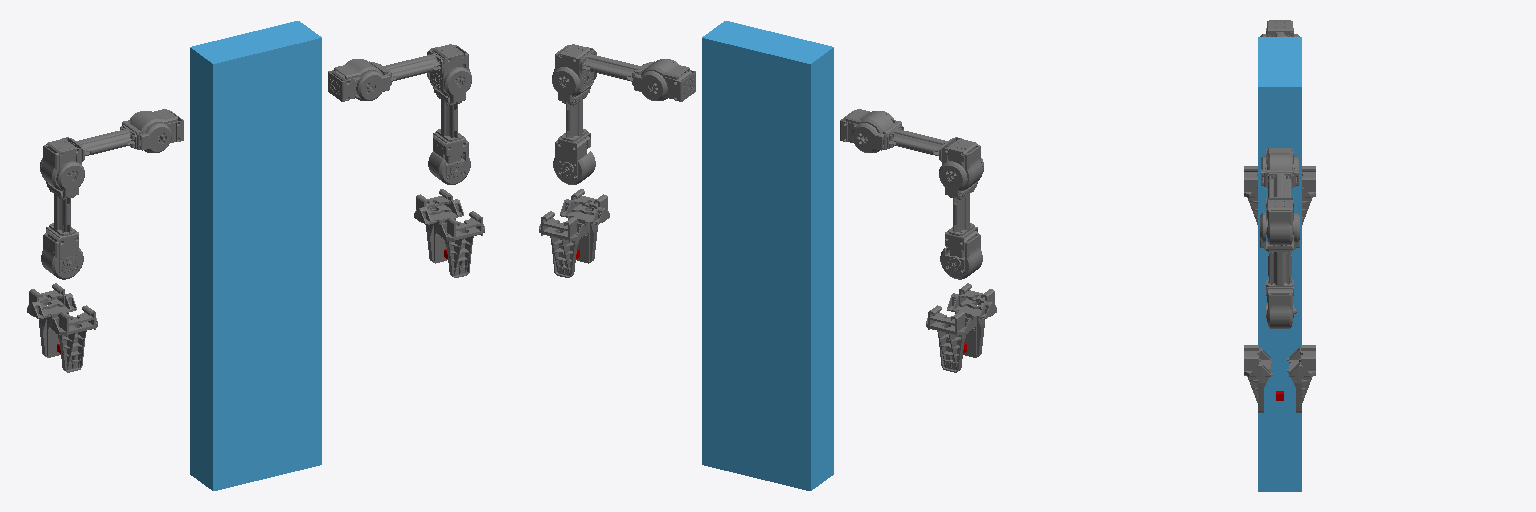
The robot description file, URDF, robot "marvin":
<?xml version="1.0" ?>
<!-- =================================================================================== -->
<!-- |    This document was autogenerated by xacro from marvin.urdf.xacro              | -->
<!-- |    EDITING THIS FILE BY HAND IS NOT RECOMMENDED                                 | -->
<!-- =================================================================================== -->
<!-- Open_Manipulator Chain -->
<robot name="marvin">
  <material name="black">
    <color rgba="0.0 0.0 0.0 1.0"/>
  </material>
  <material name="white">
    <color rgba="1.0 1.0 1.0 1.0"/>
  </material>
  <material name="red">
    <color rgba="0.8 0.0 0.0 1.0"/>
  </material>
  <material name="blue">
    <color rgba="0.0 0.0 0.8 1.0"/>
  </material>
  <material name="green">
    <color rgba="0.0 0.8 0.0 1.0"/>
  </material>
  <material name="grey">
    <color rgba="0.5 0.5 0.5 1.0"/>
  </material>
  <material name="orange">
    <color rgba="1.0 0.4235294117647059 0.0392156862745098 1.0"/>
  </material>
  <material name="brown">
    <color rgba="0.8705882352941177 0.8117647058823529 0.7647058823529411 1.0"/>
  </material>
  <!-- Import all Gazebo-customization elements, including Gazebo colors -->
  <!--xacro:include filename="[local-path]/marvin/ros2_ws/src/marvin/urdf2/open_manipulator.gazebo.xacro" /-->
  <transmission name="tran1">
    <type>transmission_interface/SimpleTransmission</type>
    <joint name="joint1">
      <hardwareInterface>hardware_interface/PositionJointInterface</hardwareInterface>
    </joint>
    <actuator name="motor1">
      <mechanicalReduction>1</mechanicalReduction>
    </actuator>
  </transmission>
  <transmission name="tran2">
    <type>transmission_interface/SimpleTransmission</type>
    <joint name="joint2">
      <hardwareInterface>hardware_interface/PositionJointInterface</hardwareInterface>
    </joint>
    <actuator name="motor2">
      <mechanicalReduction>1</mechanicalReduction>
    </actuator>
  </transmission>
  <transmission name="tran3">
    <type>transmission_interface/SimpleTransmission</type>
    <joint name="joint3">
      <hardwareInterface>hardware_interface/PositionJointInterface</hardwareInterface>
    </joint>
    <actuator name="motor3">
      <mechanicalReduction>1</mechanicalReduction>
    </actuator>
  </transmission>
  <transmission name="tran4">
    <type>transmission_interface/SimpleTransmission</type>
    <joint name="joint4">
      <hardwareInterface>hardware_interface/PositionJointInterface</hardwareInterface>
    </joint>
    <actuator name="motor4">
      <mechanicalReduction>1</mechanicalReduction>
    </actuator>
  </transmission>
  <transmission name="tran5">
    <type>transmission_interface/SimpleTransmission</type>
    <joint name="gripper">
      <hardwareInterface>hardware_interface/EffortJointInterface</hardwareInterface>
    </joint>
    <actuator name="motor5">
      <mechanicalReduction>1</mechanicalReduction>
    </actuator>
  </transmission>
  <transmission name="tran6">
    <type>transmission_interface/SimpleTransmission</type>
    <joint name="gripper_sub">
      <hardwareInterface>hardware_interface/EffortJointInterface</hardwareInterface>
    </joint>
    <actuator name="motor6">
      <mechanicalReduction>1</mechanicalReduction>
    </actuator>
  </transmission>
  <!-- World -->
  <link name="world"/>
  <!-- World fixed joint-->
  <joint name="world_fixed" type="fixed">
    <origin rpy="0 0 0" xyz="0 0 0"/>
    <parent link="world"/>
    <child link="torso"/>
  </joint>
  <!-- Torso Link -->
  <link name="torso">
    <collision name="Cube">
      <origin rpy="0.00000 0.00000 0.00000" xyz="0.00000 0.00000 -0.22261"/>
      <geometry>
        <box size="0.16000 0.06000 0.60000"/>
      </geometry>
    </collision>
    <visual name="Cube">
      <origin rpy="0.00000 0.00000 0.00000" xyz="0.00000 0.00000 -0.22261"/>
      <geometry>
        <box size="0.16000 0.06000 0.60000"/>
      </geometry>
    </visual>
    <parent link="world"/>
  </link>
  <joint name="left_arm_joint" type="fixed">
    <parent link="torso"/>
    <child link="link1_left"/>
    <origin rpy="0 1.5708 0" xyz="0.08 0 0"/>
  </joint>
  <joint name="right_arm_joint" type="fixed">
    <parent link="torso"/>
    <child link="link1_right"/>
    <origin rpy="0 1.5708 3.1415926535" xyz="-0.08 0 0"/>
    <!-- Rotate by pi -->
  </joint>
  <!-- Link 1 -->
  <link name="link1_left">
    <visual>
      <origin rpy="0 0 0" xyz="0 0 0"/>
      <geometry>
        <mesh filename="../meshes/stl/chain_link1.stl" scale="0.001 0.001 0.001"/>
      </geometry>
      <material name="grey"/>
    </visual>
    <collision>
      <origin rpy="0 0 0" xyz="0 0 0"/>
      <geometry>
        <mesh filename="../meshes/stl/chain_link1.stl" scale="0.001 0.001 0.001"/>
      </geometry>
    </collision>
    <inertial>
      <origin xyz="3.0876154e-04 0.0000000e+00 -1.2176461e-04"/>
      <mass value="7.9119962e-02"/>
      <inertia ixx="1.2505234e-05" ixy="0.0" ixz="-1.7855208e-07" iyy="2.1898364e-05" iyz="0.0" izz="1.9267361e-05"/>
    </inertial>
    <parent link="left_arm_joint"/>
  </link>
  <!-- Joint 1 -->
  <joint name="joint1_left" type="revolute">
    <parent link="link1_left"/>
    <child link="link2_left"/>
    <origin rpy="0 0 0" xyz="0.012 0.0 0.017"/>
    <axis xyz="0 0 1"/>
    <limit effort="1" lower="-2.827433388230814" upper="2.827433388230814" velocity="4.8"/>
  </joint>
  <!--  Link 2 -->
  <link name="link2_left">
    <visual>
      <origin rpy="0 0 0" xyz="0 0 0.019"/>
      <geometry>
        <mesh filename="../meshes/stl/chain_link2.stl" scale="0.001 0.001 0.001"/>
      </geometry>
      <material name="grey"/>
    </visual>
    <collision>
      <origin rpy="0 0 0" xyz="0 0 0.019"/>
      <geometry>
        <mesh filename="../meshes/stl/chain_link2.stl" scale="0.001 0.001 0.001"/>
      </geometry>
    </collision>
    <inertial>
      <origin xyz="-3.0184870e-04 5.4043684e-04 0.047433463999999995"/>
      <mass value="9.8406837e-02"/>
      <inertia ixx="3.4543422e-05" ixy="-1.6031095e-08" ixz="-3.8375155e-07" iyy="3.2689329e-05" iyz="2.8511935e-08" izz="1.8850320e-05"/>
    </inertial>
  </link>
  <!--  Joint 2 -->
  <joint name="joint2_left" type="revolute">
    <parent link="link2_left"/>
    <child link="link3_left"/>
    <origin rpy="0 0 0" xyz="0.0 0.0 0.0595"/>
    <axis xyz="0 1 0"/>
    <limit effort="1" lower="-1.790707812546182" upper="1.5707963267948966" velocity="4.8"/>
  </joint>
  <!--  Link 3 -->
  <link name="link3_left">
    <visual>
      <origin rpy="0 0 0" xyz="0 0 0"/>
      <geometry>
        <mesh filename="../meshes/stl/chain_link3.stl" scale="0.001 0.001 0.001"/>
      </geometry>
      <material name="grey"/>
    </visual>
    <collision>
      <origin rpy="0 0 0" xyz="0 0 0"/>
      <geometry>
        <mesh filename="../meshes/stl/chain_link3.stl" scale="0.001 0.001 0.001"/>
      </geometry>
    </collision>
    <inertial>
      <origin xyz="1.0308393e-02 3.7743363e-04 1.0170197e-01"/>
      <mass value="1.3850917e-01"/>
      <inertia ixx="3.3055381e-04" ixy="-9.7940978e-08" ixz="-3.8505711e-05" iyy="3.4290447e-04" iyz="-1.5717516e-06" izz="6.0346498e-05"/>
    </inertial>
  </link>
  <!--  Joint 3 -->
  <joint name="joint3_left" type="revolute">
    <parent link="link3_left"/>
    <child link="link4_left"/>
    <origin rpy="0 0 0" xyz="0.024 0 0.128"/>
    <axis xyz="0 1 0"/>
    <limit effort="1" lower="-0.9424777960769379" upper="1.382300767579509" velocity="4.8"/>
  </joint>
  <!--  Link 4 -->
  <link name="link4_left">
    <visual>
      <origin rpy="0 0 0" xyz="0 0 0"/>
      <geometry>
        <mesh filename="../meshes/stl/chain_link4.stl" scale="0.001 0.001 0.001"/>
      </geometry>
      <material name="grey"/>
    </visual>
    <collision>
      <origin rpy="0 0 0" xyz="0 0 0"/>
      <geometry>
        <mesh filename="../meshes/stl/chain_link4.stl" scale="0.001 0.001 0.001"/>
      </geometry>
    </collision>
    <inertial>
      <origin xyz="9.0909590e-02 3.8929816e-04 2.2413279e-04"/>
      <mass value="1.3274562e-01"/>
      <inertia ixx="3.0654178e-05" ixy="-1.2764155e-06" ixz="-2.6874417e-07" iyy="2.4230292e-04" iyz="1.1559550e-08" izz="2.5155057e-04"/>
    </inertial>
  </link>
  <!--  Joint 4 -->
  <joint name="joint4_left" type="revolute">
    <parent link="link4_left"/>
    <child link="link5_left"/>
    <origin rpy="0 0 0" xyz="0.124 0.0 0.0"/>
    <axis xyz="0 1 0"/>
    <limit effort="1" lower="-1.790707812546182" upper="2.0420352248333655" velocity="4.8"/>
  </joint>
  <!--  Link 5 -->
  <link name="link5_left">
    <visual>
      <origin rpy="0 0 0" xyz="0 0 0"/>
      <geometry>
        <mesh filename="../meshes/stl/chain_link5.stl" scale="0.001 0.001 0.001"/>
      </geometry>
      <material name="grey"/>
    </visual>
    <collision>
      <origin rpy="0 0 0" xyz="0 0 0"/>
      <geometry>
        <mesh filename="../meshes/stl/chain_link5.stl" scale="0.001 0.001 0.001"/>
      </geometry>
    </collision>
    <inertial>
      <origin xyz="4.4206755e-02 3.6839985e-07 8.9142216e-03"/>
      <mass value="1.4327573e-01"/>
      <inertia ixx="8.0870749e-05" ixy="0.0" ixz="-1.0157896e-06" iyy="7.5980465e-05" iyz="0.0" izz="9.3127351e-05"/>
    </inertial>
  </link>
  <!--  Gripper joint -->
  <joint name="gripper_left" type="prismatic">
    <parent link="link5_left"/>
    <child link="gripper_link_left"/>
    <origin rpy="0 0 0" xyz="0.0817 0.021 0.0"/>
    <axis xyz="0 1 0"/>
    <limit effort="1" lower="-0.010" upper="0.019" velocity="4.8"/>
  </joint>
  <!--  Gripper link -->
  <link name="gripper_link_left">
    <visual>
      <origin rpy="0 0 0" xyz="0.0 0.0 0"/>
      <geometry>
        <mesh filename="../meshes/stl/chain_link_grip_l.stl" scale="0.001 0.001 0.001"/>
      </geometry>
      <material name="grey"/>
    </visual>
    <collision>
      <origin rpy="0 0 0" xyz="0.0 0.0 0"/>
      <geometry>
        <mesh filename="../meshes/stl/chain_link_grip_l.stl" scale="0.001 0.001 0.001"/>
      </geometry>
    </collision>
    <inertial>
      <origin xyz="0 0 0"/>
      <mass value="1.0e-03"/>
      <inertia ixx="1.0e-03" ixy="0.0" ixz="0.0" iyy="1.0e-03" iyz="0.0" izz="1.0e-03"/>
    </inertial>
  </link>
  <!--  Gripper joint sub -->
  <joint name="gripper_sub_left" type="prismatic">
    <parent link="link5_left"/>
    <child link="gripper_link_sub_left"/>
    <origin rpy="0 0 0" xyz="0.0817 -0.021 0"/>
    <axis xyz="0 -1 0"/>
    <limit effort="1" lower="-0.010" upper="0.019" velocity="4.8"/>
    <mimic joint="gripper_left" multiplier="1"/>
  </joint>
  <!--  Gripper link sub -->
  <link name="gripper_link_sub_left">
    <visual>
      <origin rpy="0 0 0" xyz="0.0 -0.0 0"/>
      <geometry>
        <mesh filename="../meshes/stl/chain_link_grip_r.stl" scale="0.001 0.001 0.001"/>
      </geometry>
      <material name="grey"/>
    </visual>
    <collision>
      <origin rpy="0 0 0" xyz="0.0 -0.0 0"/>
      <geometry>
        <mesh filename="../meshes/stl/chain_link_grip_r.stl" scale="0.001 0.001 0.001"/>
      </geometry>
    </collision>
    <inertial>
      <origin xyz="0 0 0"/>
      <mass value="1.0e-03"/>
      <inertia ixx="1.0e-03" ixy="0.0" ixz="0.0" iyy="1.0e-03" iyz="0.0" izz="1.0e-03"/>
    </inertial>
  </link>
  <!-- end effector joint -->
  <joint name="end_effector_joint_left" type="fixed">
    <origin rpy="0 0 0" xyz="0.126 0.0 0.0"/>
    <parent link="link5_left"/>
    <child link="end_effector_link_left"/>
  </joint>
  <!-- end effector link -->
  <link name="end_effector_link_left">
    <visual>
      <origin rpy="0 0 0" xyz="0 0 0"/>
      <geometry>
        <box size="0.01 0.01 0.01"/>
      </geometry>
      <material name="red"/>
    </visual>
    <inertial>
      <origin xyz="0 0 0"/>
      <mass value="1.0e-03"/>
      <inertia ixx="1.0e-03" ixy="0.0" ixz="0.0" iyy="1.0e-03" iyz="0.0" izz="1.0e-03"/>
    </inertial>
  </link>
  <!-- Left Arm -->
  <!-- Link 1 -->
  <link name="link1_right">
    <visual>
      <origin rpy="0 0 0" xyz="0 0 0"/>
      <geometry>
        <mesh filename="../meshes/stl/chain_link1.stl" scale="0.001 0.001 0.001"/>
      </geometry>
      <material name="grey"/>
    </visual>
    <collision>
      <origin rpy="0 0 0" xyz="0 0 0"/>
      <geometry>
        <mesh filename="../meshes/stl/chain_link1.stl" scale="0.001 0.001 0.001"/>
      </geometry>
    </collision>
    <inertial>
      <origin xyz="3.0876154e-04 0.0000000e+00 -1.2176461e-04"/>
      <mass value="7.9119962e-02"/>
      <inertia ixx="1.2505234e-05" ixy="0.0" ixz="-1.7855208e-07" iyy="2.1898364e-05" iyz="0.0" izz="1.9267361e-05"/>
    </inertial>
    <parent link="right_arm_joint"/>
  </link>
  <!-- Joint 1 -->
  <joint name="joint1_right" type="revolute">
    <parent link="link1_right"/>
    <child link="link2_right"/>
    <origin rpy="0 0 0" xyz="0.012 0.0 0.017"/>
    <axis xyz="0 0 1"/>
    <limit effort="1" lower="-2.827433388230814" upper="2.827433388230814" velocity="4.8"/>
  </joint>
  <!--  Link 2 -->
  <link name="link2_right">
    <visual>
      <origin rpy="0 0 0" xyz="0 0 0.019"/>
      <geometry>
        <mesh filename="../meshes/stl/chain_link2.stl" scale="0.001 0.001 0.001"/>
      </geometry>
      <material name="grey"/>
    </visual>
    <collision>
      <origin rpy="0 0 0" xyz="0 0 0.019"/>
      <geometry>
        <mesh filename="../meshes/stl/chain_link2.stl" scale="0.001 0.001 0.001"/>
      </geometry>
    </collision>
    <inertial>
      <origin xyz="-3.0184870e-04 5.4043684e-04 0.047433463999999995"/>
      <mass value="9.8406837e-02"/>
      <inertia ixx="3.4543422e-05" ixy="-1.6031095e-08" ixz="-3.8375155e-07" iyy="3.2689329e-05" iyz="2.8511935e-08" izz="1.8850320e-05"/>
    </inertial>
  </link>
  <!--  Joint 2 -->
  <joint name="joint2_right" type="revolute">
    <parent link="link2_right"/>
    <child link="link3_right"/>
    <origin rpy="0 0 0" xyz="0.0 0.0 0.0595"/>
    <axis xyz="0 1 0"/>
    <limit effort="1" lower="-1.790707812546182" upper="1.5707963267948966" velocity="4.8"/>
  </joint>
  <!--  Link 3 -->
  <link name="link3_right">
    <visual>
      <origin rpy="0 0 0" xyz="0 0 0"/>
      <geometry>
        <mesh filename="../meshes/stl/chain_link3.stl" scale="0.001 0.001 0.001"/>
      </geometry>
      <material name="grey"/>
    </visual>
    <collision>
      <origin rpy="0 0 0" xyz="0 0 0"/>
      <geometry>
        <mesh filename="../meshes/stl/chain_link3.stl" scale="0.001 0.001 0.001"/>
      </geometry>
    </collision>
    <inertial>
      <origin xyz="1.0308393e-02 3.7743363e-04 1.0170197e-01"/>
      <mass value="1.3850917e-01"/>
      <inertia ixx="3.3055381e-04" ixy="-9.7940978e-08" ixz="-3.8505711e-05" iyy="3.4290447e-04" iyz="-1.5717516e-06" izz="6.0346498e-05"/>
    </inertial>
  </link>
  <!--  Joint 3 -->
  <joint name="joint3_right" type="revolute">
    <parent link="link3_right"/>
    <child link="link4_right"/>
    <origin rpy="0 0 0" xyz="0.024 0 0.128"/>
    <axis xyz="0 1 0"/>
    <limit effort="1" lower="-0.9424777960769379" upper="1.382300767579509" velocity="4.8"/>
  </joint>
  <!--  Link 4 -->
  <link name="link4_right">
    <visual>
      <origin rpy="0 0 0" xyz="0 0 0"/>
      <geometry>
        <mesh filename="../meshes/stl/chain_link4.stl" scale="0.001 0.001 0.001"/>
      </geometry>
      <material name="grey"/>
    </visual>
    <collision>
      <origin rpy="0 0 0" xyz="0 0 0"/>
      <geometry>
        <mesh filename="../meshes/stl/chain_link4.stl" scale="0.001 0.001 0.001"/>
      </geometry>
    </collision>
    <inertial>
      <origin xyz="9.0909590e-02 3.8929816e-04 2.2413279e-04"/>
      <mass value="1.3274562e-01"/>
      <inertia ixx="3.0654178e-05" ixy="-1.2764155e-06" ixz="-2.6874417e-07" iyy="2.4230292e-04" iyz="1.1559550e-08" izz="2.5155057e-04"/>
    </inertial>
  </link>
  <!--  Joint 4 -->
  <joint name="joint4_right" type="revolute">
    <parent link="link4_right"/>
    <child link="link5_right"/>
    <origin rpy="0 0 0" xyz="0.124 0.0 0.0"/>
    <axis xyz="0 1 0"/>
    <limit effort="1" lower="-1.790707812546182" upper="2.0420352248333655" velocity="4.8"/>
  </joint>
  <!--  Link 5 -->
  <link name="link5_right">
    <visual>
      <origin rpy="0 0 0" xyz="0 0 0"/>
      <geometry>
        <mesh filename="../meshes/stl/chain_link5.stl" scale="0.001 0.001 0.001"/>
      </geometry>
      <material name="grey"/>
    </visual>
    <collision>
      <origin rpy="0 0 0" xyz="0 0 0"/>
      <geometry>
        <mesh filename="../meshes/stl/chain_link5.stl" scale="0.001 0.001 0.001"/>
      </geometry>
    </collision>
    <inertial>
      <origin xyz="4.4206755e-02 3.6839985e-07 8.9142216e-03"/>
      <mass value="1.4327573e-01"/>
      <inertia ixx="8.0870749e-05" ixy="0.0" ixz="-1.0157896e-06" iyy="7.5980465e-05" iyz="0.0" izz="9.3127351e-05"/>
    </inertial>
  </link>
  <!--  Gripper joint -->
  <joint name="gripper_right" type="prismatic">
    <parent link="link5_right"/>
    <child link="gripper_link_right"/>
    <origin rpy="0 0 0" xyz="0.0817 0.021 0.0"/>
    <axis xyz="0 1 0"/>
    <limit effort="1" lower="-0.010" upper="0.019" velocity="4.8"/>
  </joint>
  <!--  Gripper link -->
  <link name="gripper_link_right">
    <visual>
      <origin rpy="0 0 0" xyz="0.0 0.0 0"/>
      <geometry>
        <mesh filename="../meshes/stl/chain_link_grip_l.stl" scale="0.001 0.001 0.001"/>
      </geometry>
      <material name="grey"/>
    </visual>
    <collision>
      <origin rpy="0 0 0" xyz="0.0 0.0 0"/>
      <geometry>
        <mesh filename="../meshes/stl/chain_link_grip_l.stl" scale="0.001 0.001 0.001"/>
      </geometry>
    </collision>
    <inertial>
      <origin xyz="0 0 0"/>
      <mass value="1.0e-03"/>
      <inertia ixx="1.0e-03" ixy="0.0" ixz="0.0" iyy="1.0e-03" iyz="0.0" izz="1.0e-03"/>
    </inertial>
  </link>
  <!--  Gripper joint sub -->
  <joint name="gripper_sub_right" type="prismatic">
    <parent link="link5_right"/>
    <child link="gripper_link_sub_right"/>
    <origin rpy="0 0 0" xyz="0.0817 -0.021 0"/>
    <axis xyz="0 -1 0"/>
    <limit effort="1" lower="-0.010" upper="0.019" velocity="4.8"/>
    <mimic joint="gripper_right" multiplier="1"/>
  </joint>
  <!--  Gripper link sub -->
  <link name="gripper_link_sub_right">
    <visual>
      <origin rpy="0 0 0" xyz="0.0 -0.0 0"/>
      <geometry>
        <mesh filename="../meshes/stl/chain_link_grip_r.stl" scale="0.001 0.001 0.001"/>
      </geometry>
      <material name="grey"/>
    </visual>
    <collision>
      <origin rpy="0 0 0" xyz="0.0 -0.0 0"/>
      <geometry>
        <mesh filename="../meshes/stl/chain_link_grip_r.stl" scale="0.001 0.001 0.001"/>
      </geometry>
    </collision>
    <inertial>
      <origin xyz="0 0 0"/>
      <mass value="1.0e-03"/>
      <inertia ixx="1.0e-03" ixy="0.0" ixz="0.0" iyy="1.0e-03" iyz="0.0" izz="1.0e-03"/>
    </inertial>
  </link>
  <!-- end effector joint -->
  <joint name="end_effector_joint_right" type="fixed">
    <origin rpy="0 0 0" xyz="0.126 0.0 0.0"/>
    <parent link="link5_right"/>
    <child link="end_effector_link_right"/>
  </joint>
  <!-- end effector link -->
  <link name="end_effector_link_right">
    <visual>
      <origin rpy="0 0 0" xyz="0 0 0"/>
      <geometry>
        <box size="0.01 0.01 0.01"/>
      </geometry>
      <material name="red"/>
    </visual>
    <inertial>
      <origin xyz="0 0 0"/>
      <mass value="1.0e-03"/>
      <inertia ixx="1.0e-03" ixy="0.0" ixz="0.0" iyy="1.0e-03" iyz="0.0" izz="1.0e-03"/>
    </inertial>
  </link>
  <!-- Right Arm (Mirrored) -->
</robot>

--- Facts derived from the render (not from the file) ---
Views: 3 orthographic renders of the robot side by side, from view 1: azimuth 30°, elevation 25°; view 2: azimuth 150°, elevation 25°; view 3: azimuth 270°, elevation 25°.
Robot: marvin — 18 links, 17 joints (8 revolute, 4 prismatic, 5 fixed); root link world; default pose: every joint at zero.
Links seen in each view (by area): view 1: torso, link4_right, link4_left, link3_right, link3_left, gripper_link_right, gripper_link_sub_left, gripper_link_left, gripper_link_sub_right, link2_left, link2_right; view 2: torso, link4_right, link4_left, link3_right, link3_left, gripper_link_sub_right, gripper_link_left, gripper_link_sub_left, gripper_link_right, link2_left, link2_right; view 3: torso, link4_left, link3_left, gripper_link_left, gripper_link_sub_left, link2_left, gripper_link_right, gripper_link_sub_right.
Link boxes in pixels (x1,y1,x2,y2): torso: [190, 21, 321, 490]; link4_right: [40, 158, 84, 279]; link4_left: [427, 67, 471, 184]; link3_right: [41, 111, 171, 190]; link3_left: [345, 44, 470, 100]; gripper_link_right: [48, 305, 97, 372]; gripper_link_sub_left: [435, 211, 484, 277]; gripper_link_left: [414, 189, 463, 263]; gripper_link_sub_right: [27, 283, 76, 357]; link2_left: [328, 59, 382, 101]; link2_right: [130, 109, 183, 152]; torso: [702, 21, 833, 490]; link4_right: [939, 158, 983, 279]; link4_left: [552, 67, 596, 184]; link3_right: [852, 111, 982, 190]; link3_left: [553, 44, 678, 100]; gripper_link_sub_right: [926, 305, 975, 372]; gripper_link_left: [539, 211, 588, 277]; gripper_link_sub_left: [560, 189, 609, 263]; gripper_link_right: [947, 283, 996, 357]; link2_left: [641, 59, 695, 101]; link2_right: [840, 109, 893, 152]; torso: [1258, 37, 1301, 491]; link4_left: [1260, 213, 1299, 328]; link3_left: [1261, 156, 1298, 244]; gripper_link_left: [1287, 345, 1315, 412]; gripper_link_sub_left: [1244, 345, 1272, 412]; link2_left: [1266, 148, 1293, 172]; gripper_link_right: [1244, 166, 1257, 224]; gripper_link_sub_right: [1302, 166, 1315, 224].
Bounding box of the posed robot: 0.627 × 0.0972 × 0.6 m (x, y, z).
10 mesh visuals loaded from 7 distinct referenced files (5 binary STL); not drawn: 4 (reference not matched to a file when rendering).
